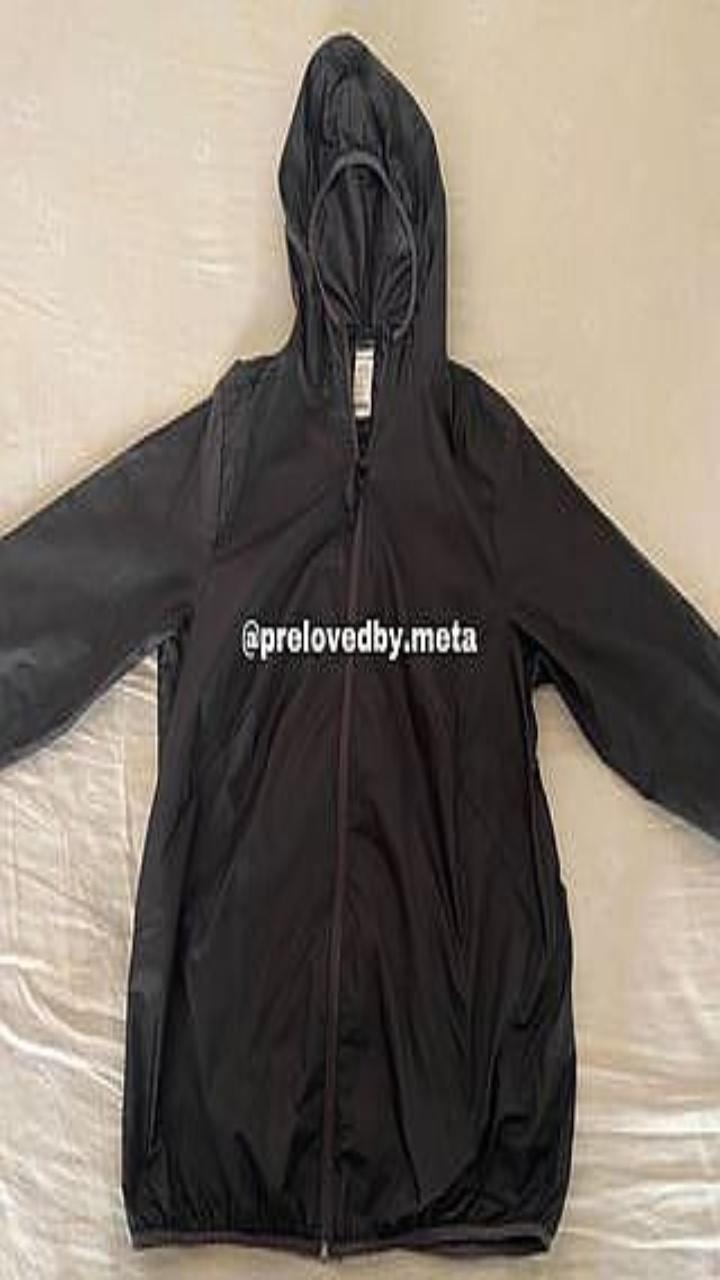Sports_Jacket: (0, 32, 719, 1257)
